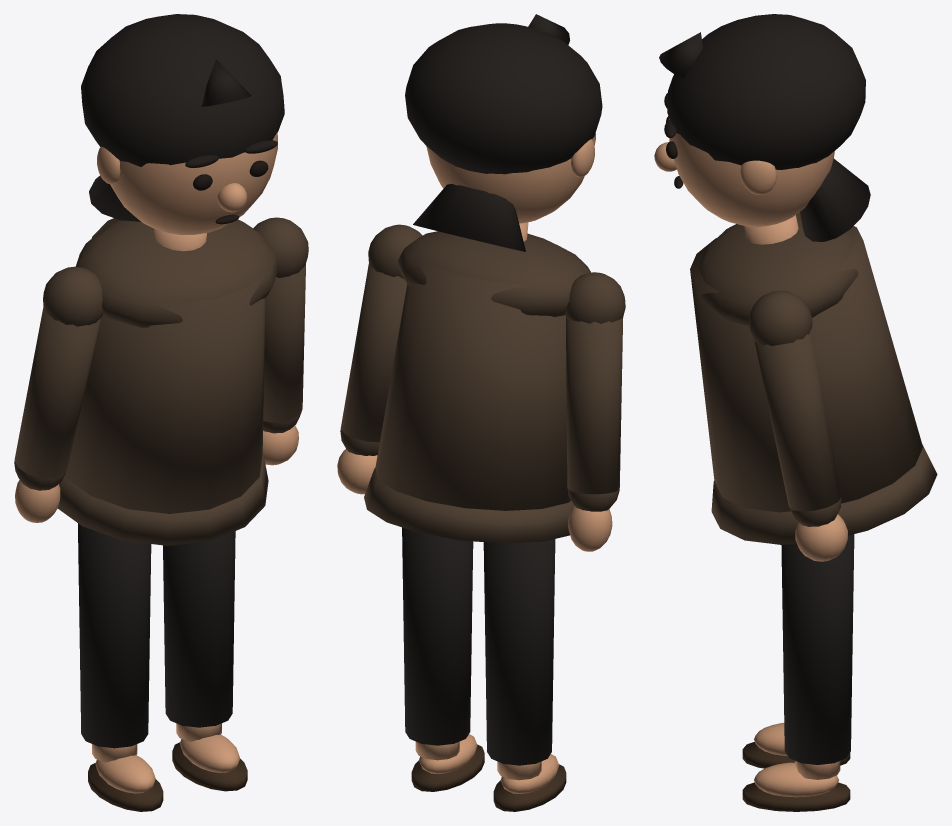
File: villager_old_woman.glb
3 views of the same model, side by side, from view 1: azimuth 30°, elevation 25°; view 2: azimuth 150°, elevation 25°; view 3: azimuth 270°, elevation 25° (orthographic). The views are drawn at different scales.
Visible parts, largest first — view 1: Body, Head, LegL, LegR, ArmL, ArmR; view 2: Body, Head, LegL, LegR, ArmL, ArmR; view 3: Body, Head, LegR, ArmR, LegL.
Part boxes in pixels (bbox=[...]): Body: bbox=[57, 218, 278, 545]; Head: bbox=[81, 14, 284, 234]; LegL: bbox=[78, 523, 163, 811]; LegR: bbox=[163, 531, 247, 791]; ArmL: bbox=[14, 266, 103, 522]; ArmR: bbox=[253, 217, 308, 465]; Body: bbox=[364, 222, 590, 543]; Head: bbox=[405, 14, 602, 251]; LegL: bbox=[483, 539, 566, 811]; LegR: bbox=[402, 527, 484, 791]; ArmL: bbox=[565, 272, 625, 551]; ArmR: bbox=[337, 224, 422, 494]; Body: bbox=[690, 212, 937, 544]; Head: bbox=[654, 14, 870, 241]; LegR: bbox=[742, 534, 854, 811]; ArmR: bbox=[748, 290, 847, 561]; LegL: bbox=[742, 722, 850, 768].
Size of the model in its own units: 0.6 by 1.56 by 0.5299.
